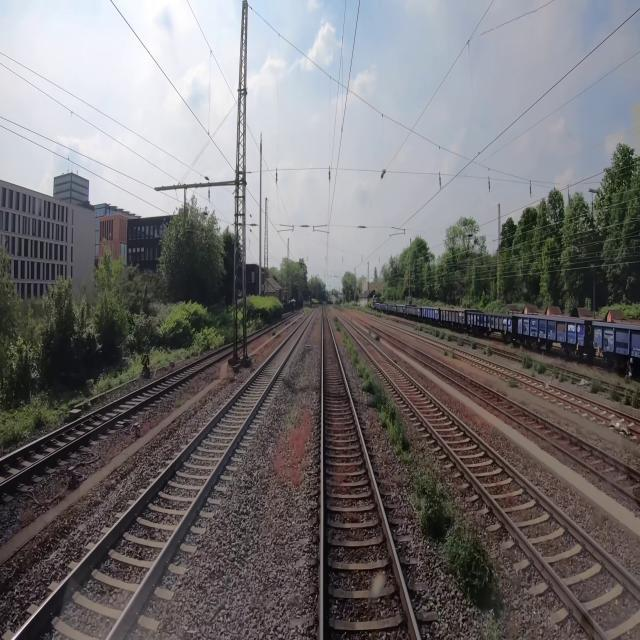Plant: (407, 472, 520, 639), (342, 330, 414, 465), (273, 404, 310, 484), (414, 324, 452, 341), (522, 357, 546, 378), (1, 432, 28, 450), (619, 388, 639, 409), (552, 366, 575, 382), (49, 416, 65, 432), (609, 384, 622, 402), (585, 379, 600, 393), (507, 378, 522, 389), (482, 345, 493, 358), (34, 423, 45, 430), (456, 337, 463, 346), (470, 341, 476, 350), (335, 324, 340, 332), (375, 334, 380, 341), (271, 329, 276, 336), (392, 359, 398, 364), (452, 353, 457, 359), (334, 316, 338, 322), (444, 350, 448, 356)
